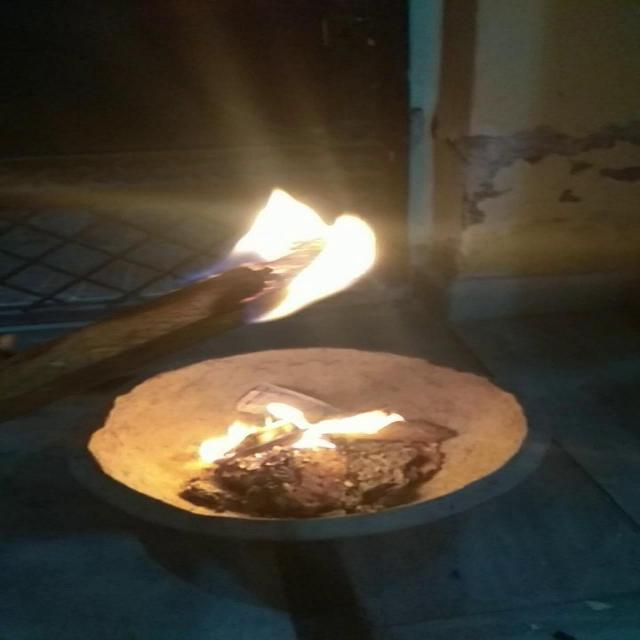fire: (188, 162, 378, 328), (190, 400, 398, 466)
